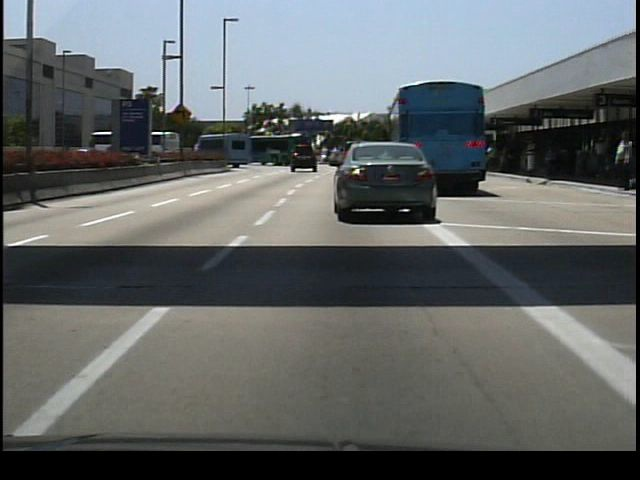person: (609, 128, 635, 195)
